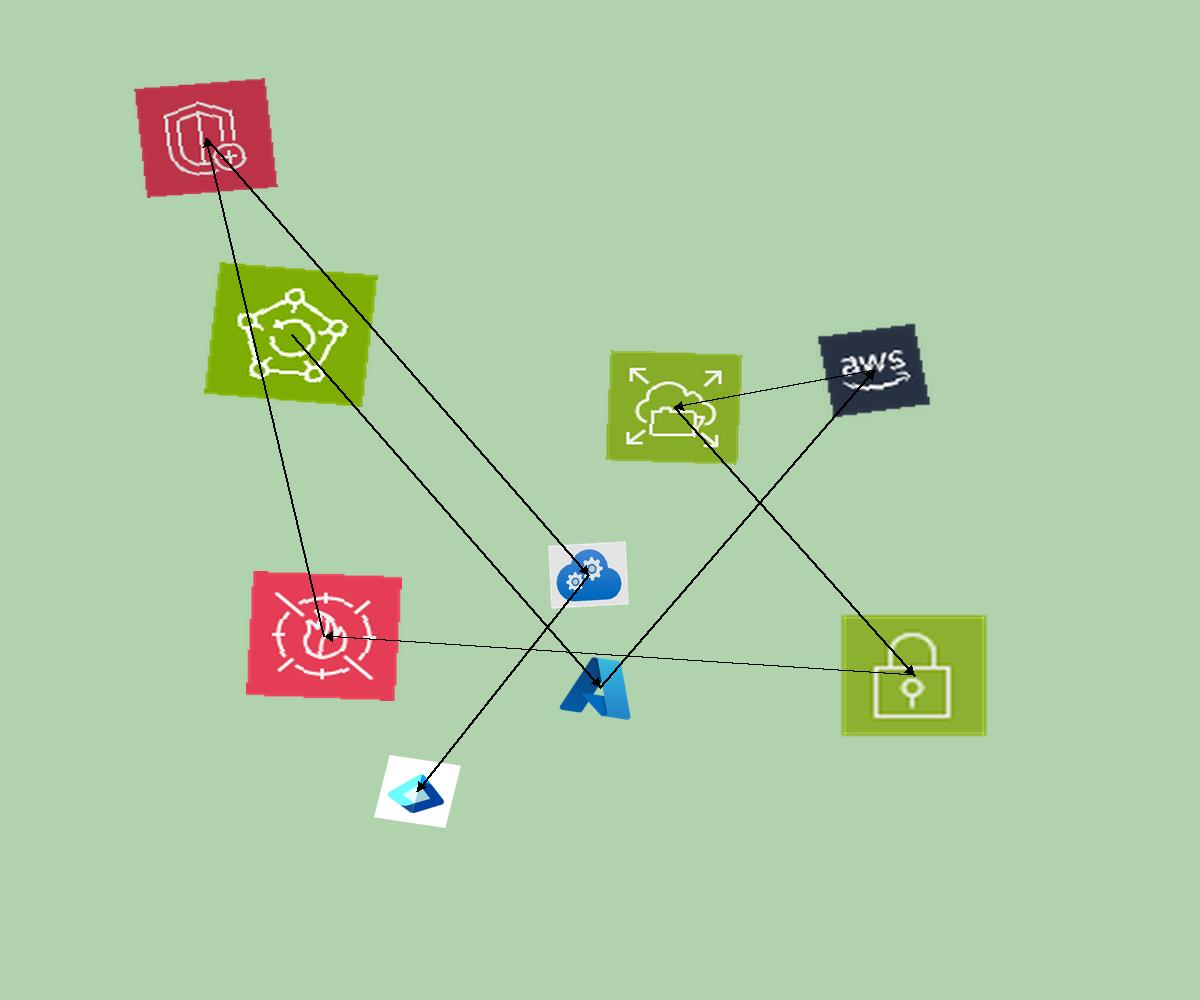AWS-Backup: (204, 262, 378, 407)
AWS-Cloud-logo: (816, 322, 932, 419)
AWS-EFS: (605, 350, 743, 465)
AWS-Public-subnet: (838, 612, 990, 739)
AWS-Shield: (134, 78, 278, 198)
AWS-WAF: (246, 571, 402, 701)
Azure_cloud_services: (548, 541, 629, 609)
Azure_microsoft_entra: (374, 755, 461, 828)
Azure_services: (555, 649, 646, 725)
